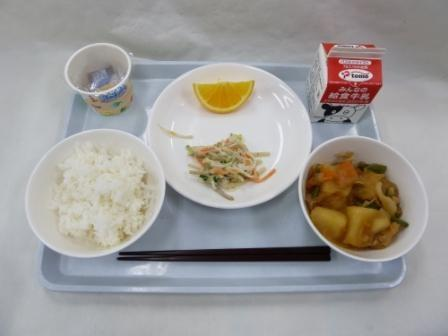Citrus: (183, 71, 263, 125)
Milk: (300, 34, 397, 126)
Rice: (14, 130, 174, 267)
Salad: (182, 120, 273, 200)
vegetable based cooked food: (297, 135, 438, 266)
